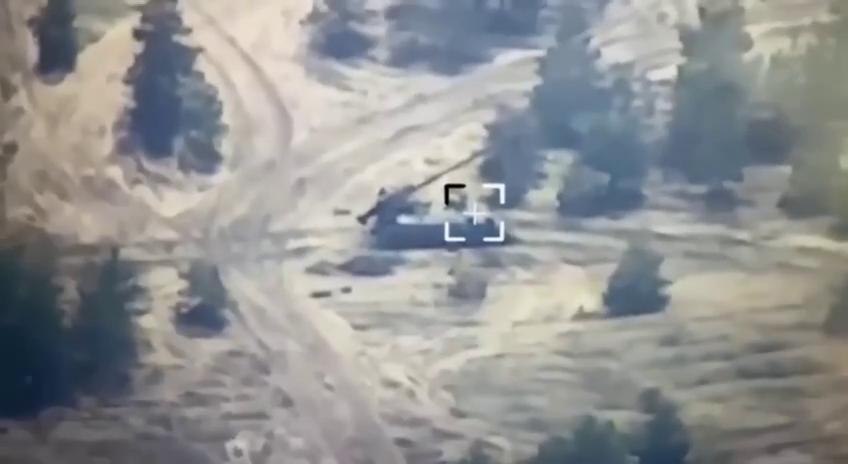tank: (356, 148, 508, 246)
